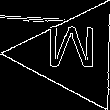M_S: (46, 29, 99, 80)
